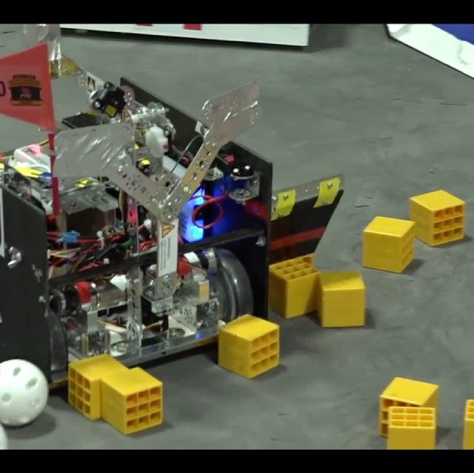robot: (0, 42, 348, 404)
